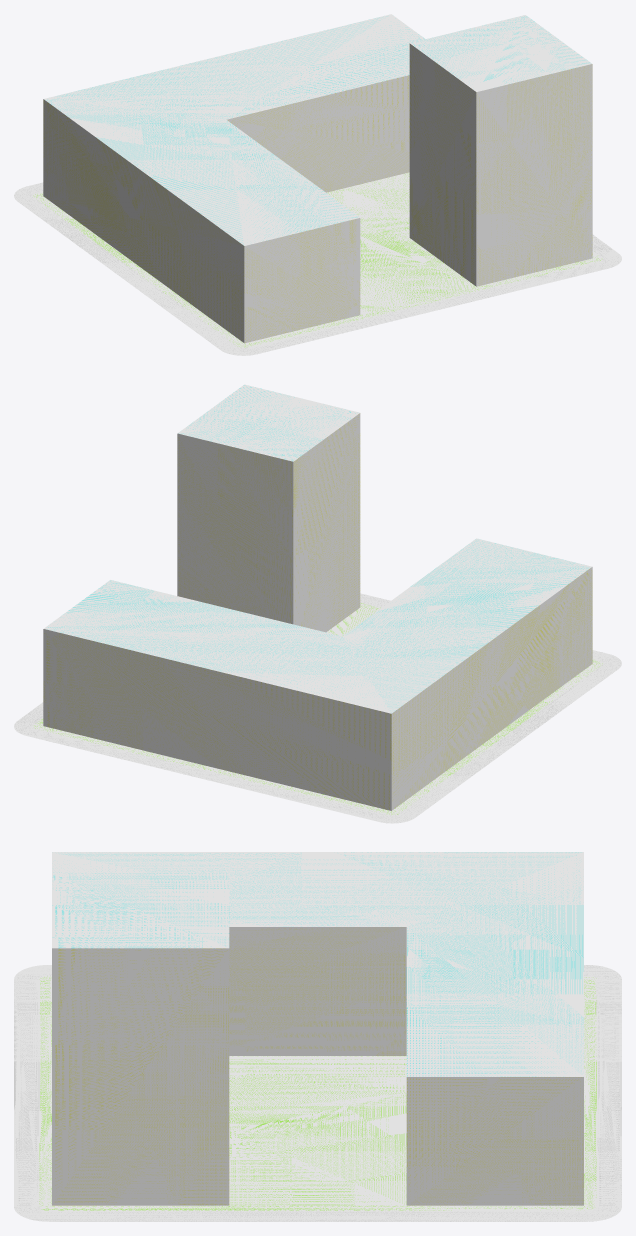
The model's file is building02.dae.
3 renders of one model, top to bottom at view 1: azimuth 30°, elevation 25°; view 2: azimuth 150°, elevation 25°; view 3: azimuth 270°, elevation 25°, orthographic. The views are drawn at different scales.
Parts seen in each view (by area): view 1: group_0 (×6); view 2: group_0 (×6); view 3: group_0 (×6).
Part boxes in pixels (x1,y1,x2,y2): group_0 (×6): (14,14,621,355); group_0 (×6): (14,384,621,823); group_0 (×6): (14,852,621,1221).
Size of the model in its own units: 48 by 48 by 22.44.
